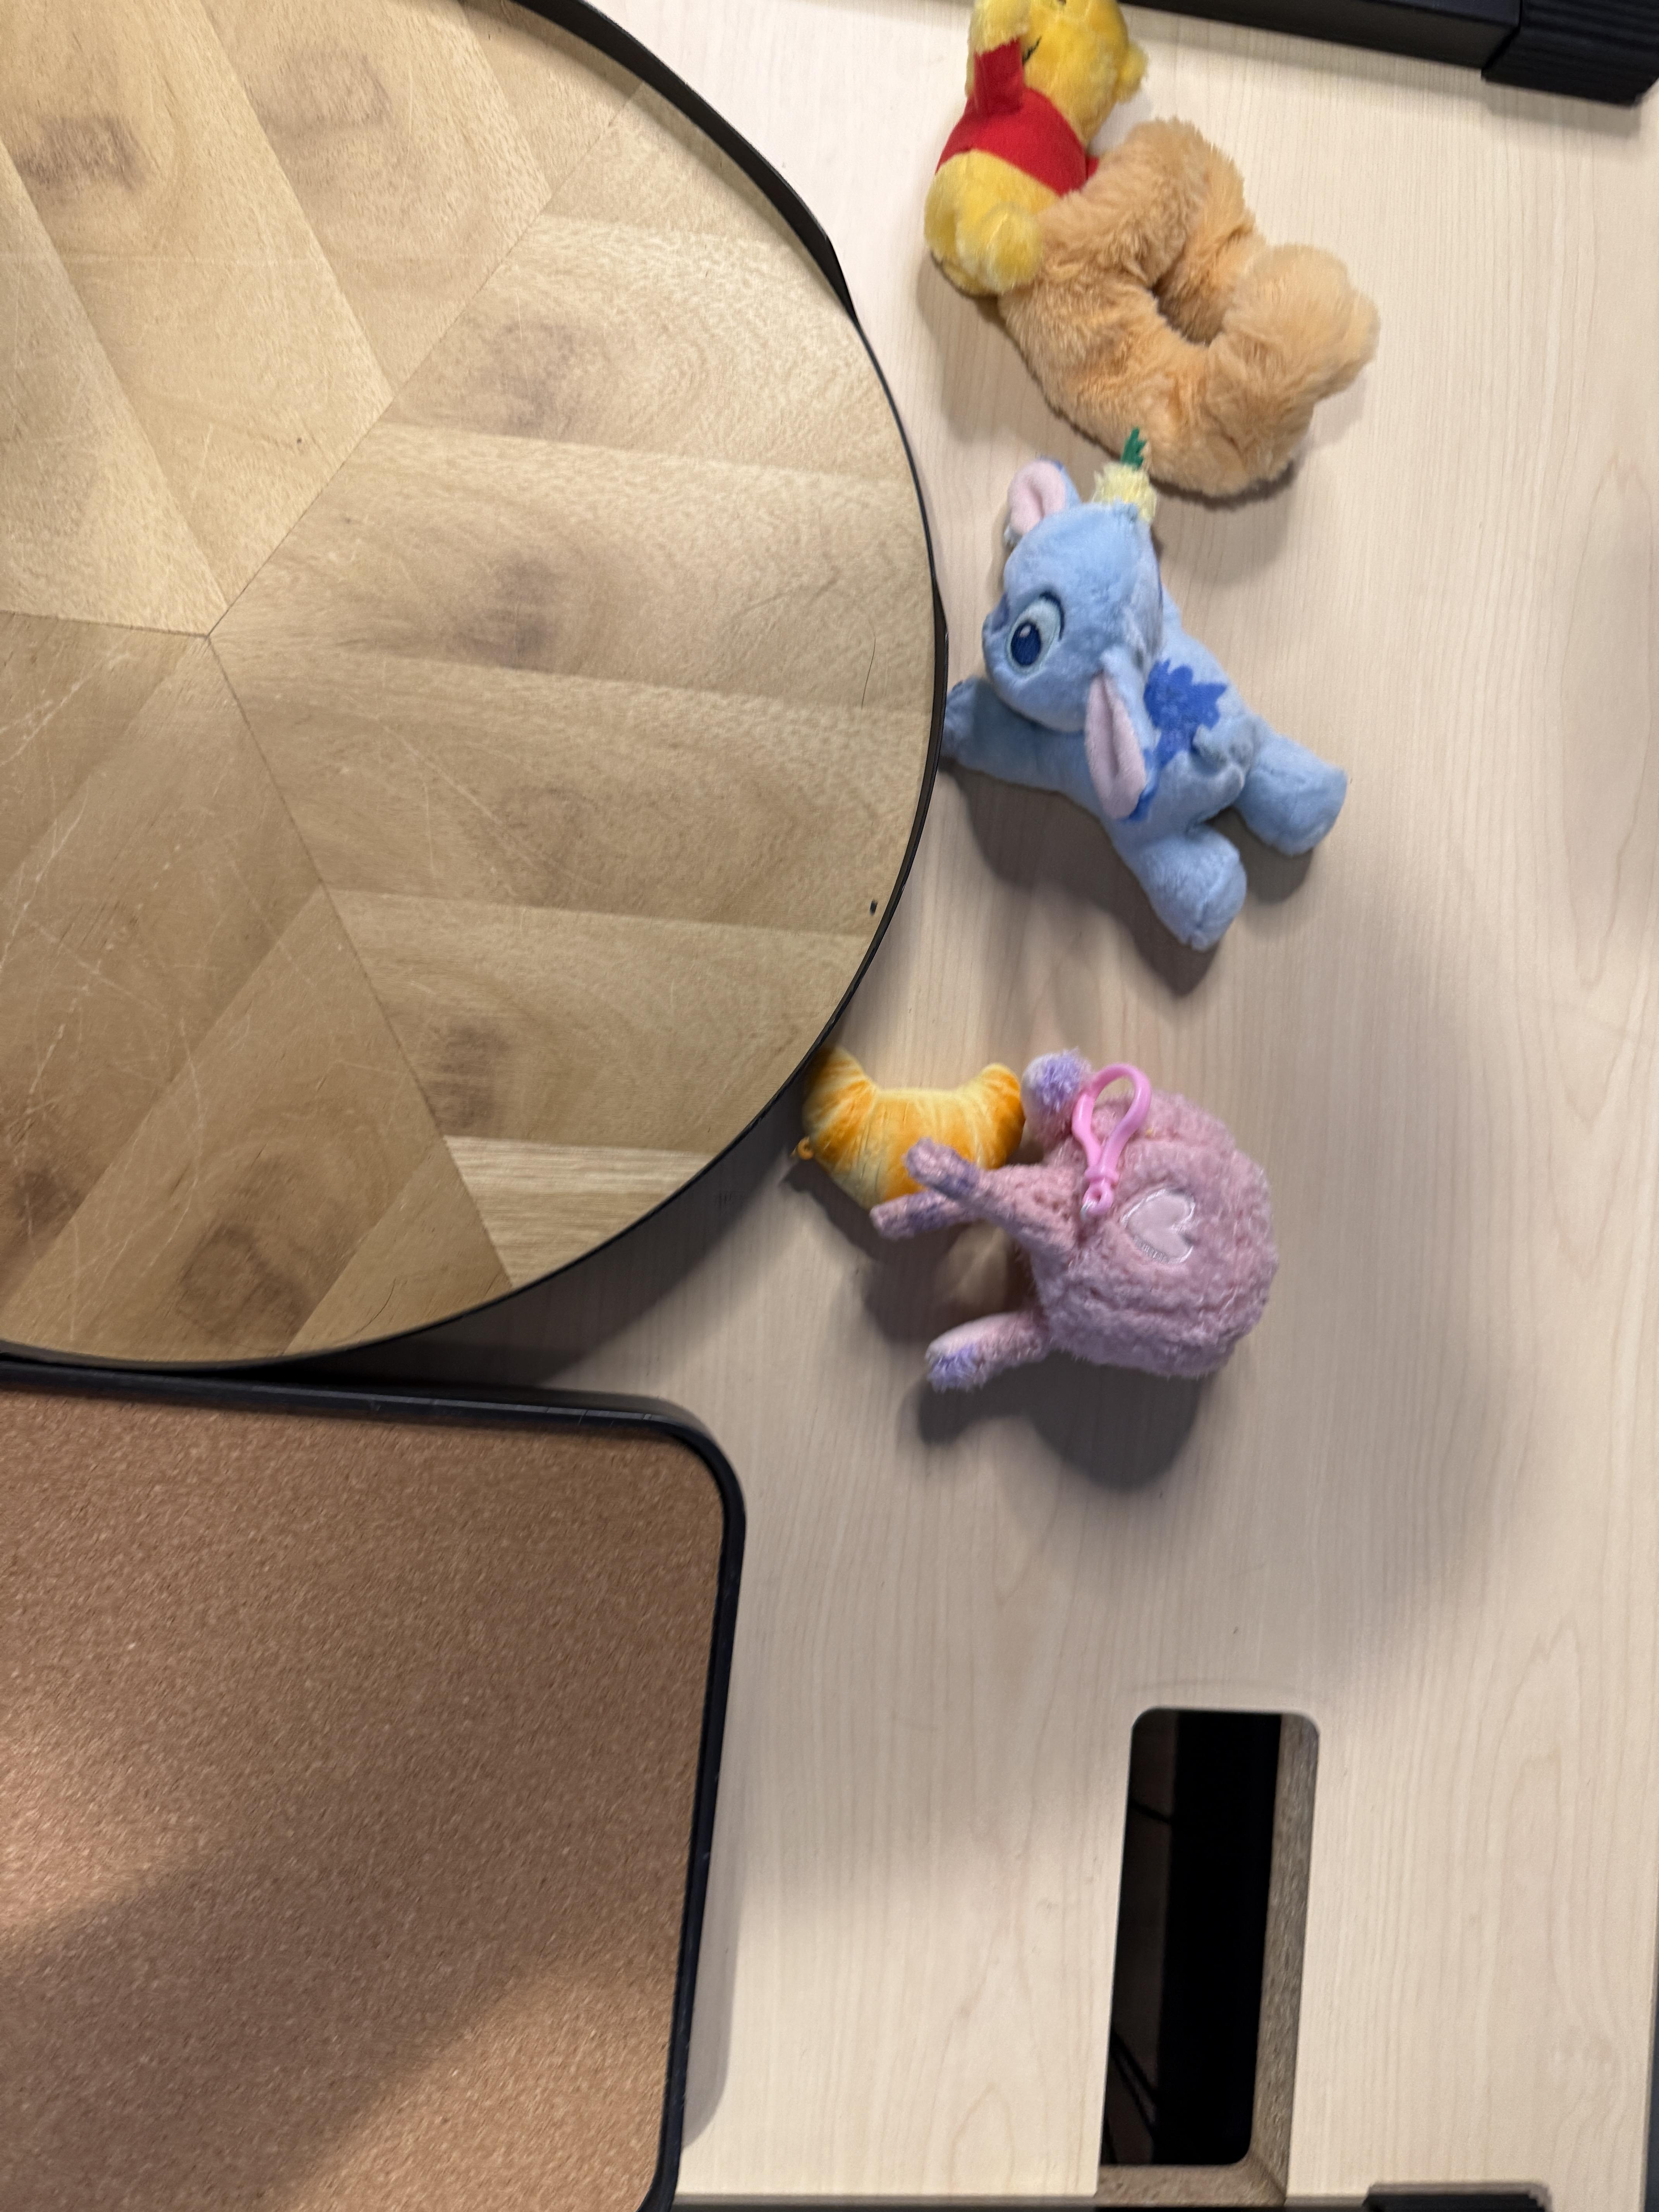bread: (802, 1038, 1023, 1214)
doll: (913, 0, 1380, 503), (934, 446, 1347, 953), (875, 1050, 1283, 1400)
